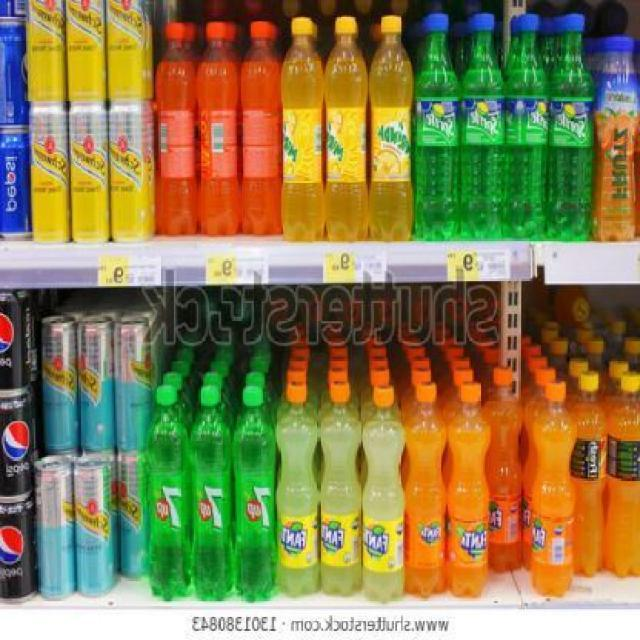Drinks: (505, 14, 549, 240), (549, 15, 593, 241), (416, 13, 460, 239), (461, 13, 505, 239), (533, 380, 577, 600), (446, 382, 490, 600), (363, 383, 406, 603), (233, 384, 276, 602), (319, 380, 362, 598), (276, 380, 319, 598), (146, 385, 189, 602), (190, 386, 233, 602), (406, 380, 446, 600), (1, 498, 38, 606), (2, 399, 33, 503), (1, 289, 29, 397)
